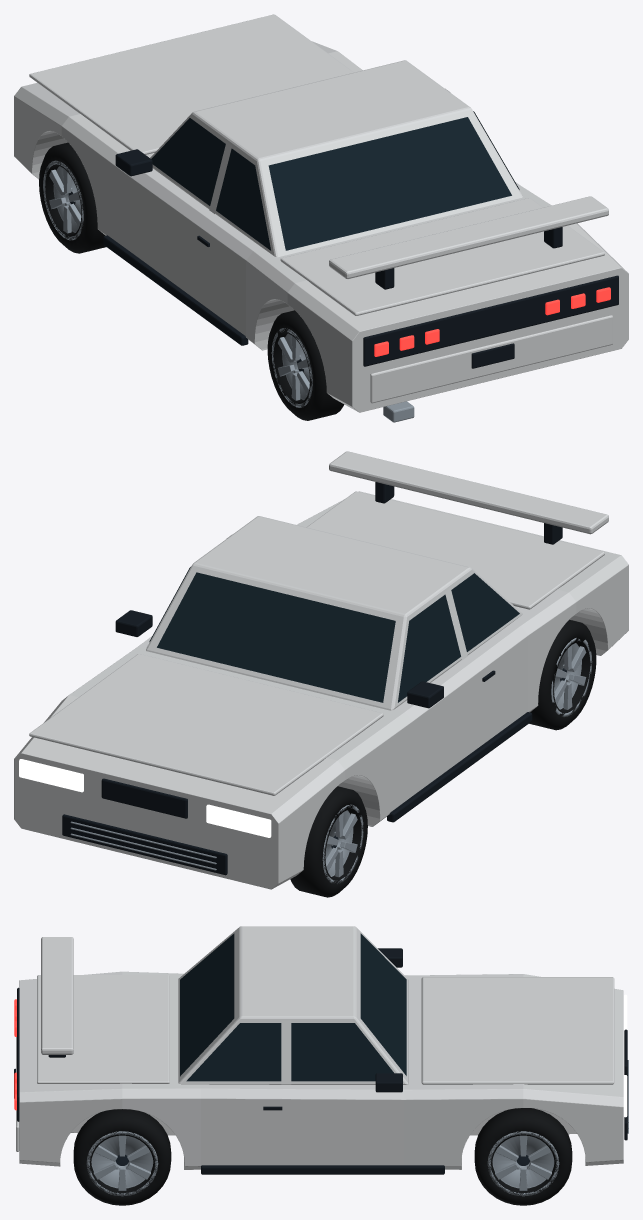
The model's file is ns-reign-01.glb.
3 renders of one model, top to bottom at view 1: azimuth 30°, elevation 25°; view 2: azimuth 150°, elevation 25°; view 3: azimuth 270°, elevation 25°, orthographic. The views are drawn at different scales.
Visible parts, largest first — view 1: coachwork, long-bonnet, upright-coupe, rear-glass, separate-boot, rear-apron, tail-recess, side-glass-left, bridge-wing, tire-rear-left, tire-front-left, rocker-left (+4 smaller); view 2: coachwork, long-bonnet, upright-coupe, windshield, separate-boot, side-glass-left, bridge-wing, tire-front-left, tire-rear-left, intercooler, rocker-left, front-grille (+6 smaller); view 3: coachwork, long-bonnet, upright-coupe, separate-boot, side-glass-right, tire-front-right, tire-rear-right, rear-glass, windshield, bridge-wing, rocker-right, rim-front-right (+4 smaller).
Part boxes in pixels (x1,y1,x2,y2): coachwork: (14, 41, 628, 412); long-bonnet: (29, 14, 353, 154); upright-coupe: (150, 60, 522, 257); rear-glass: (268, 117, 511, 250); separate-boot: (280, 198, 604, 315); rear-apron: (370, 315, 612, 403); tail-recess: (363, 275, 618, 366); side-glass-left: (151, 118, 270, 250); bridge-wing: (329, 196, 608, 279); tire-rear-left: (267, 310, 344, 420); tire-front-left: (39, 142, 105, 253); rocker-left: (103, 235, 248, 345); coachwork: (14, 491, 628, 889); long-bonnet: (29, 654, 383, 795); upright-coupe: (146, 516, 522, 710); windshield: (157, 572, 395, 702); separate-boot: (306, 491, 604, 609); side-glass-left: (398, 573, 519, 702); bridge-wing: (329, 451, 608, 534); tire-front-left: (290, 786, 367, 897); tire-rear-left: (529, 619, 596, 730); intercooler: (62, 814, 227, 875); rocker-left: (387, 712, 532, 822); front-grille: (101, 778, 187, 818); coachwork: (19, 971, 623, 1169); long-bonnet: (421, 977, 614, 1084); upright-coupe: (178, 926, 408, 1084); separate-boot: (37, 975, 169, 1083); side-glass-right: (186, 1023, 393, 1081); tire-front-right: (474, 1108, 572, 1205); tire-rear-right: (73, 1109, 171, 1205); rear-glass: (180, 933, 234, 1076); windshield: (360, 933, 406, 1075); bridge-wing: (41, 937, 73, 1054); rocker-right: (201, 1165, 444, 1174); rim-front-right: (487, 1131, 559, 1196).
Bounding box in the file's own units: 2.35 × 1.44 × 4.54.
